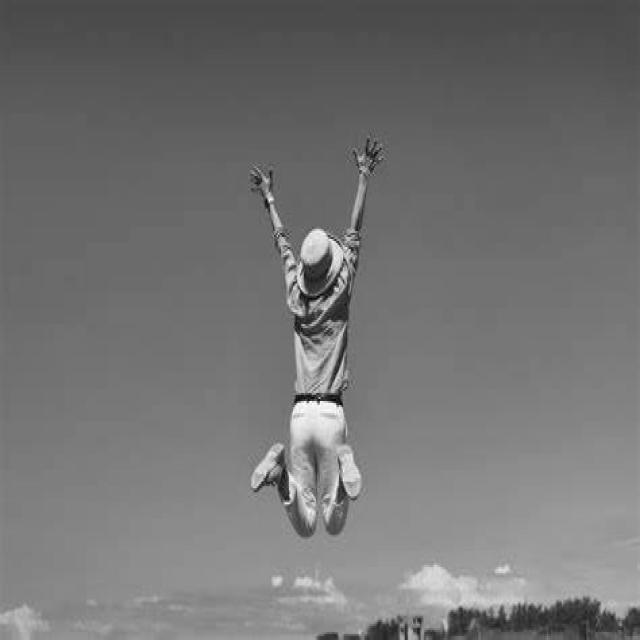stand: (255, 169, 372, 550)
